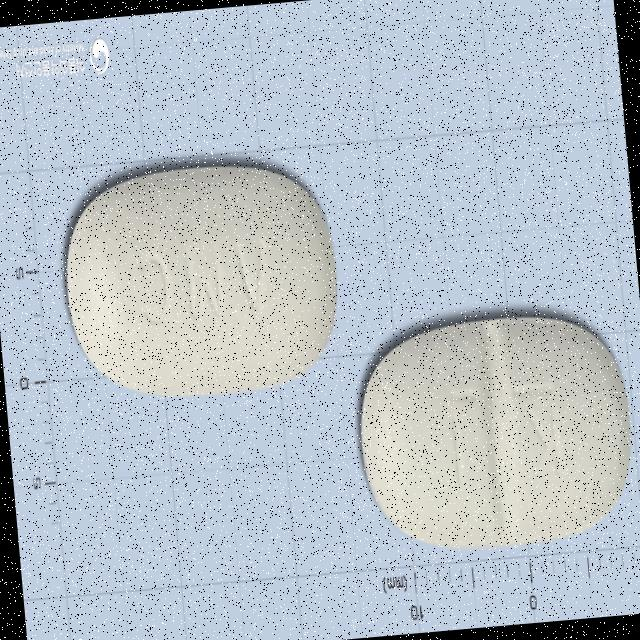Amocla Duo500mg: (52, 150, 348, 409), (348, 302, 640, 563)
